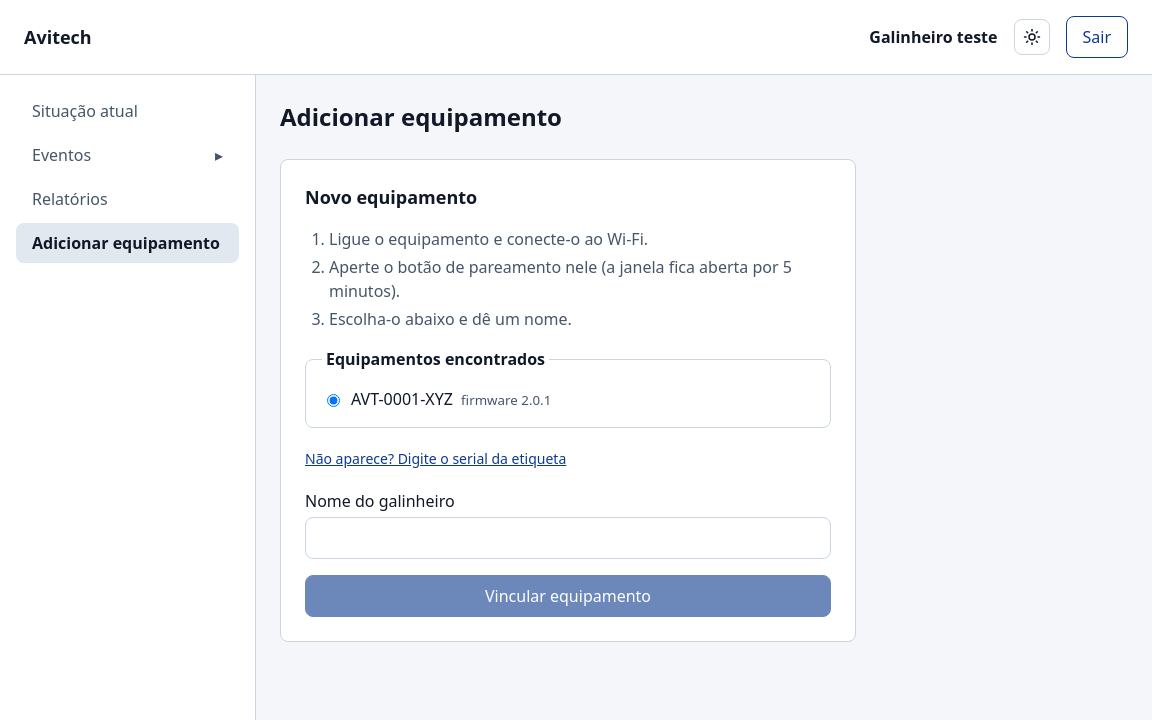
Scenario: Adicionar equipamento (logado) › acha o equipamento, pede o nome e vincula; depois abre o painel com o novo
The image size is (1152, 720).
expect the radio button labelled "AVT-0001-XYZ firmware 2.0.1" is checked: met, box [327,394,340,407]
In the field labelled "Nome do galinheiro": (568, 538) [305,517,831,559], type "Novo"
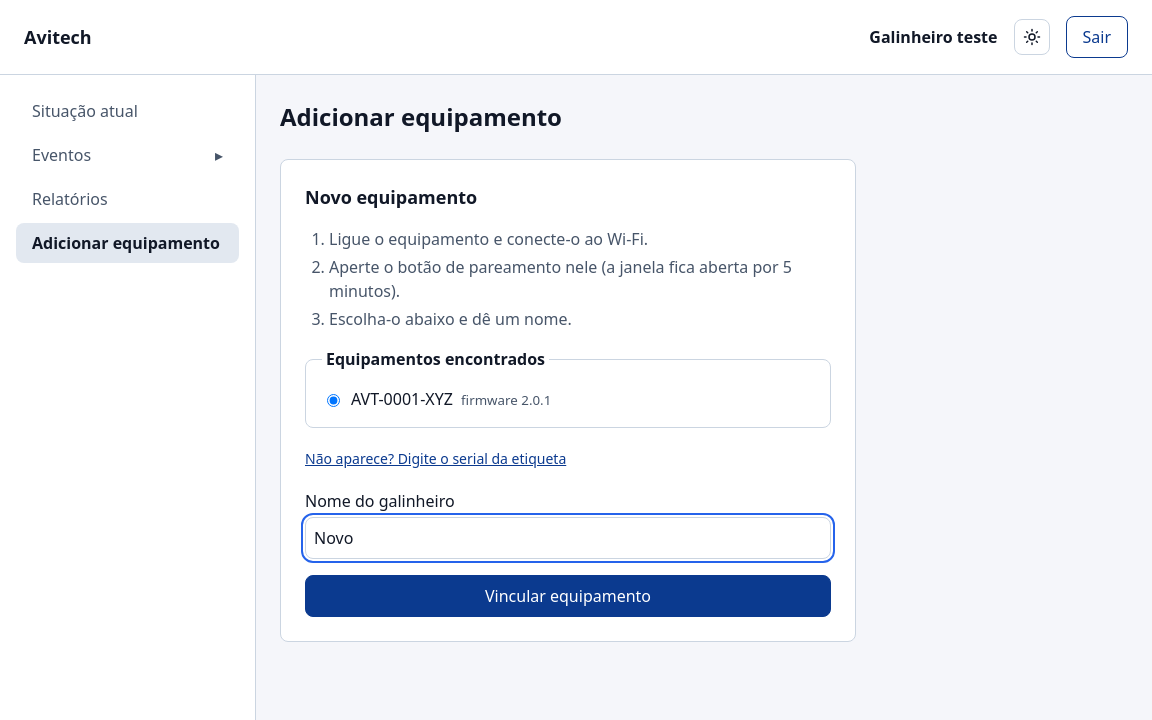
Click the button "Vincular equipamento": (568, 596) [305,575,831,617]
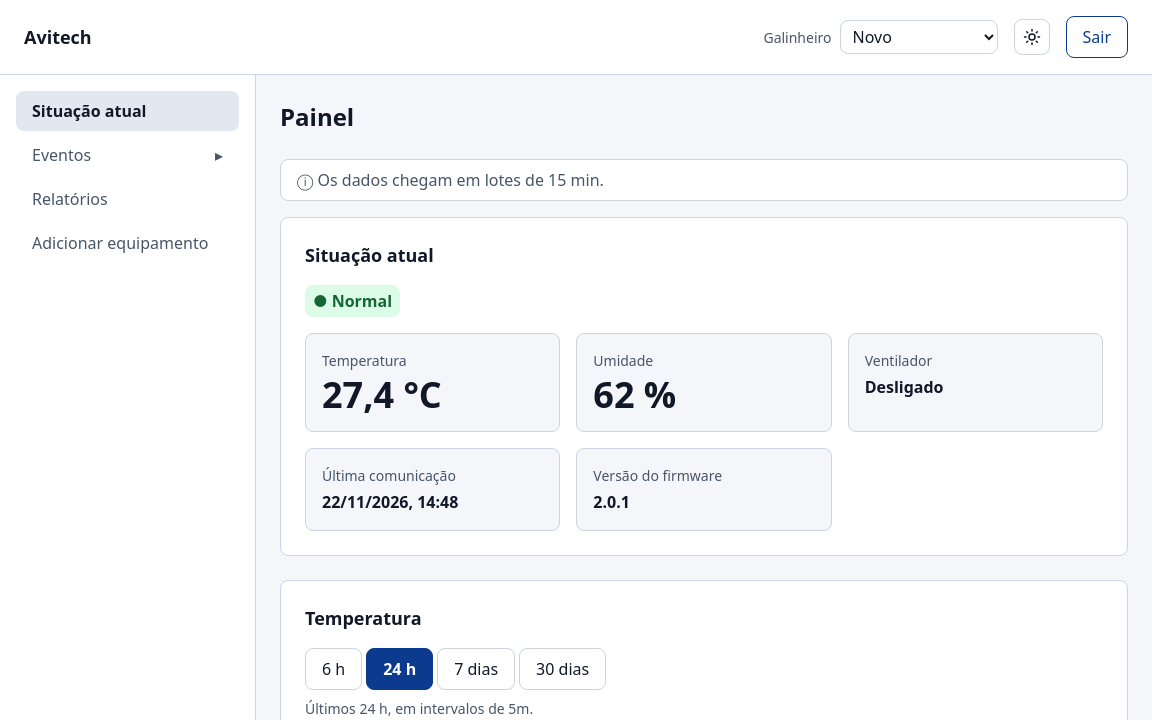
expect the heading "Painel" is shown: met, box [280,99,354,135]
expect the dropdown labelled "Galinheiro" shows "Novo": met, box [840,20,998,54]
